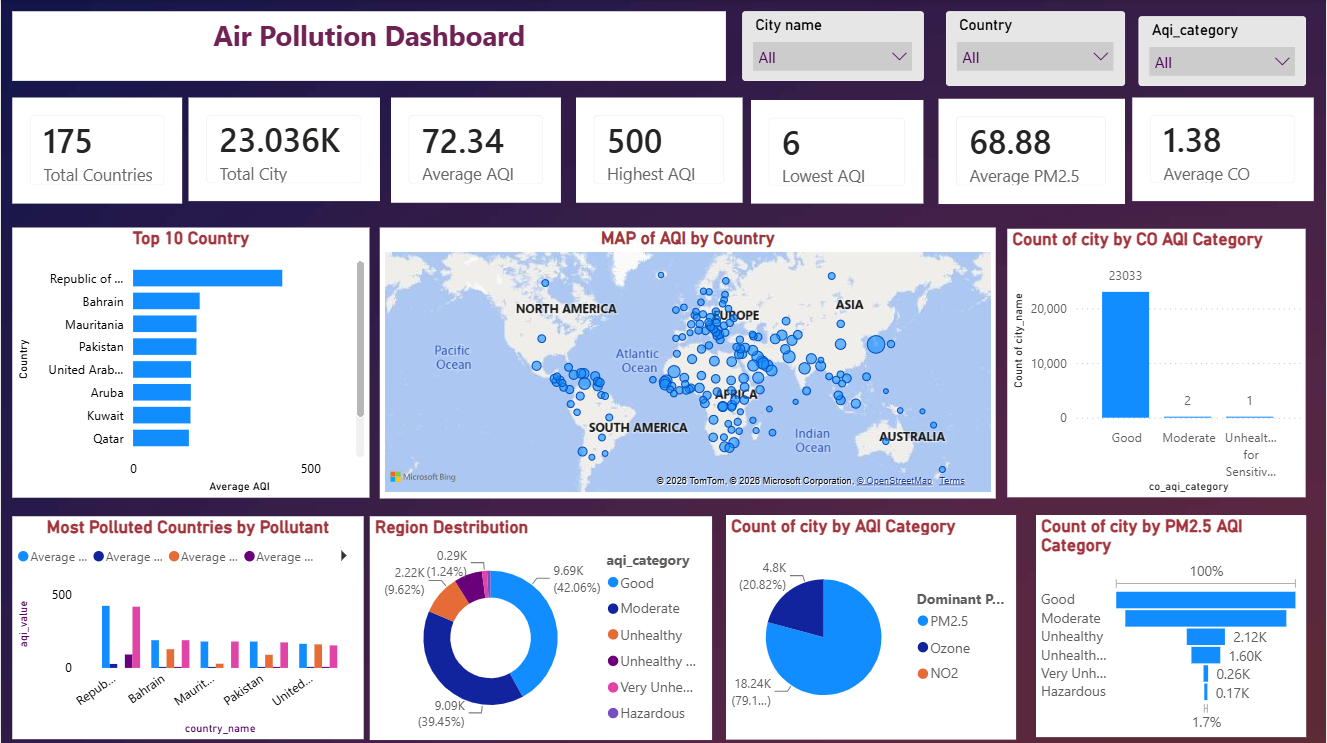

The dashboard page shown, as its layout file describes it:
{"tool":"powerbi","page":{"name":"Page 1","canvas":[1280,720],"ordinal":0},"visuals":[{"type":"textbox","box":[10.9,10.9,688.9,67.6],"z":0},{"type":"barChart","title":"Top 10 Country","fields":{"Category":["global_air_pollution_data (1).country_name"],"Y":["global_air_pollution_data (1).Average AQI"]},"box":[10.9,219.6,345,260.6],"z":1000},{"type":"map","title":"MAP of AQI by Country","fields":{"Category":["global_air_pollution_data (1).country_name"],"Size":["global_air_pollution_data (1).Average AQI"]},"box":[365.6,219.6,594.8,260.6],"z":3000},{"type":"slicer","fields":{"Values":["global_air_pollution_data (1).country_name"]},"box":[912.1,10.9,172.5,72.4],"z":4000},{"type":"donutChart","title":"Region Destribution","fields":{"Category":["global_air_pollution_data (1).aqi_category"],"Y":["CountNonNull(global_air_pollution_data (1).city_name)"]},"box":[355.9,498.3,330.6,216],"z":5000},{"type":"slicer","fields":{"Values":["global_air_pollution_data (1).aqi_category"]},"box":[1097.9,15.7,161.7,67.6],"z":6000},{"type":"slicer","fields":{"Values":["global_air_pollution_data (1).city_name"]},"box":[715.4,10.9,174.9,67.6],"z":8000},{"type":"cardVisual","fields":{"Data":["global_air_pollution_data (1).Average CO"]},"box":[1091.8,94.1,174.9,100.1],"z":9000},{"type":"cardVisual","fields":{"Data":["global_air_pollution_data (1).Average AQI"]},"box":[376.4,94.1,164.1,101.3],"z":10000},{"type":"cardVisual","fields":{"Data":["global_air_pollution_data (1).Average PM2.5"]},"box":[904.8,95.3,179.8,101.3],"z":11000},{"type":"cardVisual","fields":{"Data":["global_air_pollution_data (1).Highest AQI"]},"box":[555,94.1,160.5,101.3],"z":12000},{"type":"cardVisual","fields":{"Data":["global_air_pollution_data (1).Total Countries"]},"box":[10.9,94.1,164.1,102.5],"z":13000},{"type":"cardVisual","fields":{"Data":["global_air_pollution_data (1).Lowest AQI"]},"box":[723.9,96.5,166.5,100.1],"z":14000},{"type":"pieChart","title":"Count of city by AQI Category","fields":{"Y":["Count(global_air_pollution_data (1).city_name)"],"Category":["global_air_pollution_data (1).Dominant Pollutant"]},"box":[699.7,497.1,279.9,217.2],"z":15000},{"type":"lineStackedColumnComboChart","title":"Count of city by CO  AQI Category","fields":{"Category":["global_air_pollution_data (1).co_aqi_category"],"Y":["CountNonNull(global_air_pollution_data (1).city_name)"]},"box":[971.2,220.8,288.3,259.4],"z":16000},{"type":"funnel","title":"Count of city by PM2.5 AQI Category","fields":{"Y":["CountNonNull(global_air_pollution_data (1).city_name)"],"Category":["global_air_pollution_data (1).pm2.5_aqi_category"]},"box":[998.9,497.1,260.6,214.7],"z":16001},{"type":"cardVisual","fields":{"Data":["CountNonNull(global_air_pollution_data (1).city_name)"]},"box":[181,94.1,184.6,100.1],"z":16002},{"type":"clusteredColumnChart","title":"Most Polluted Countries by Pollutant","fields":{"Category":["global_air_pollution_data (1).country_name"],"Y":["global_air_pollution_data (1).Average AQI","global_air_pollution_data (1).Average CO","global_air_pollution_data (1).Average Ozone","global_air_pollution_data (1).Average NO2","global_air_pollution_data (1).Average PM2.5"]},"box":[10.8,498.1,339.3,215.4],"z":16003}]}

Visuals, with their boxes in screenshot pixels (x1, y1, x2, y2), scaled from the page's 1280x720 canvas onto the 1327x743 screenshot:
textbox: l=11, t=11, r=725, b=81
"Top 10 Country" barChart: l=11, t=227, r=369, b=496
"MAP of AQI by Country" map: l=379, t=227, r=996, b=496
slicer - global_air_pollution_data (1).country_name: l=946, t=11, r=1124, b=86
"Region Destribution" donutChart: l=369, t=514, r=712, b=737
slicer - global_air_pollution_data (1).aqi_category: l=1138, t=16, r=1306, b=86
slicer - global_air_pollution_data (1).city_name: l=742, t=11, r=923, b=81
cardVisual - global_air_pollution_data (1).Average CO: l=1132, t=97, r=1313, b=200
cardVisual - global_air_pollution_data (1).Average AQI: l=390, t=97, r=560, b=202
cardVisual - global_air_pollution_data (1).Average PM2.5: l=938, t=98, r=1124, b=203
cardVisual - global_air_pollution_data (1).Highest AQI: l=575, t=97, r=742, b=202
cardVisual - global_air_pollution_data (1).Total Countries: l=11, t=97, r=181, b=203
cardVisual - global_air_pollution_data (1).Lowest AQI: l=750, t=100, r=923, b=203
"Count of city by AQI Category" pieChart: l=725, t=513, r=1016, b=737
"Count of city by CO  AQI Category" lineStackedColumnComboChart: l=1007, t=228, r=1306, b=496
"Count of city by PM2.5 AQI Category" funnel: l=1036, t=513, r=1306, b=735
cardVisual - CountNonNull(global_air_pollution_data (1).city_name): l=188, t=97, r=379, b=200
"Most Polluted Countries by Pollutant" clusteredColumnChart: l=11, t=514, r=363, b=736
